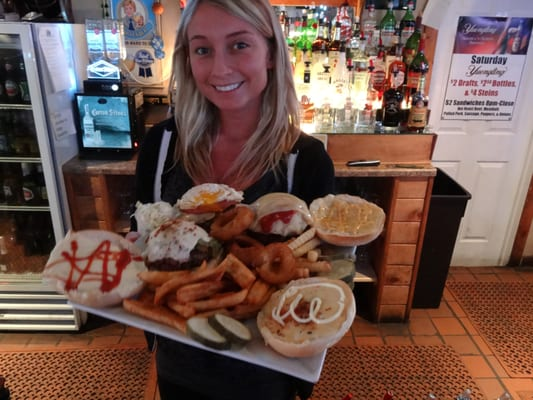sushi: (256, 277, 356, 359)
